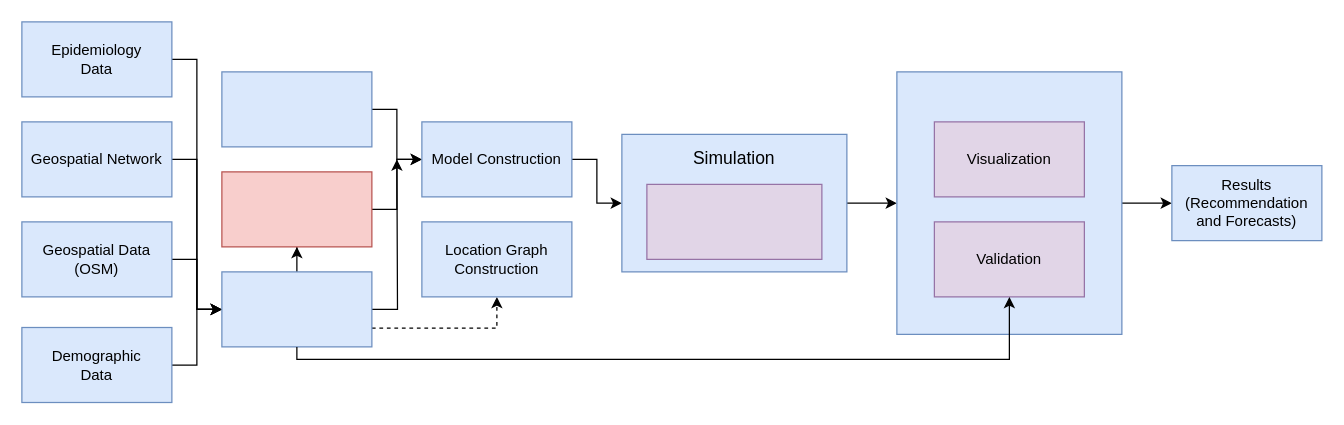
The diagram is 1344 pixels wide and 425 high, and some of its shapes have lost their labels. Here are the shapes that lost their labels. From the top down, the box of each, then its label:
(221, 71, 372, 147): Simulation Setting
(221, 171, 372, 247): Health Measures
(646, 183, 822, 259): FACS Code
(896, 71, 1122, 334): Analysis
(221, 271, 372, 347): Data Extraction
